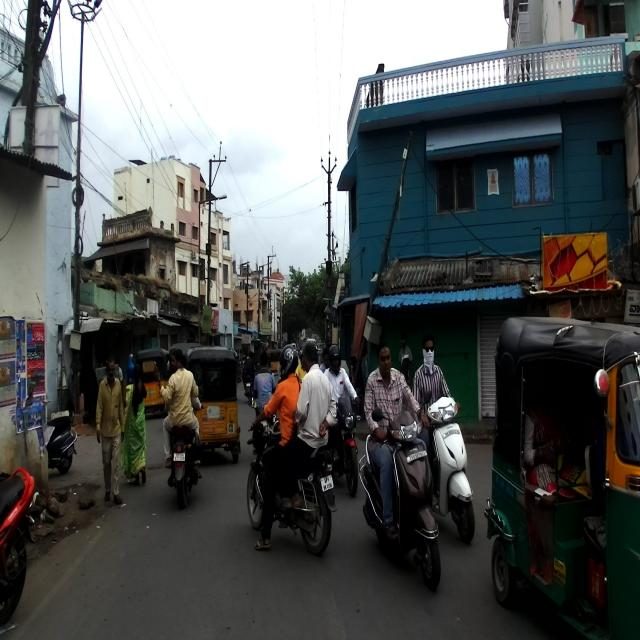autorickshaw: (484, 312, 640, 640), (184, 345, 242, 464)
motorcycle_Hero: (0, 465, 41, 632)
motorcycle_Yamaha: (158, 382, 203, 510)
motorcycle_bajaj: (245, 402, 336, 564), (324, 392, 362, 497)
scooter: (357, 388, 441, 590), (417, 391, 475, 546), (45, 410, 78, 474)
